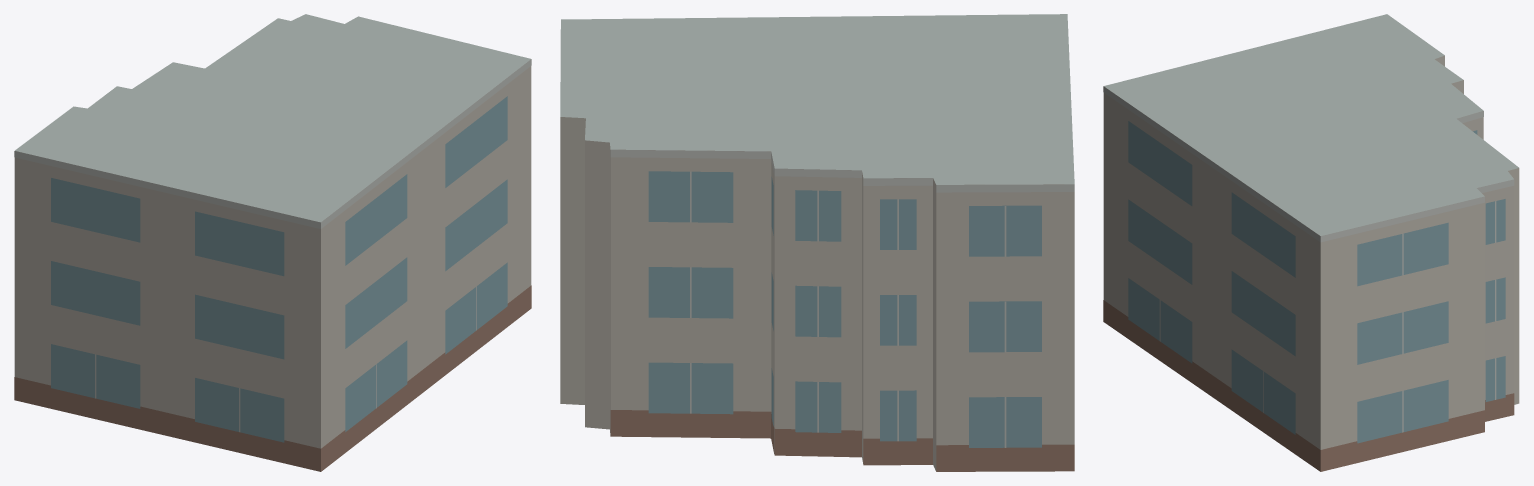
The model's file is survey-upis-32628229.glb.
3 renders of one model, left to right at view 1: azimuth 30°, elevation 25°; view 2: azimuth 150°, elevation 25°; view 3: azimuth 270°, elevation 25°, orthographic. The views are drawn at different scales.
Visible parts, largest first — view 1: survey-upis-32628229.tmp; view 2: survey-upis-32628229.tmp; view 3: survey-upis-32628229.tmp.
Part boxes in pixels (bbox=[...]): survey-upis-32628229.tmp: bbox=[14, 14, 531, 471]; survey-upis-32628229.tmp: bbox=[560, 14, 1074, 471]; survey-upis-32628229.tmp: bbox=[1103, 14, 1519, 471].
Size of the model in its own units: 18.51 by 9.15 by 14.64.
